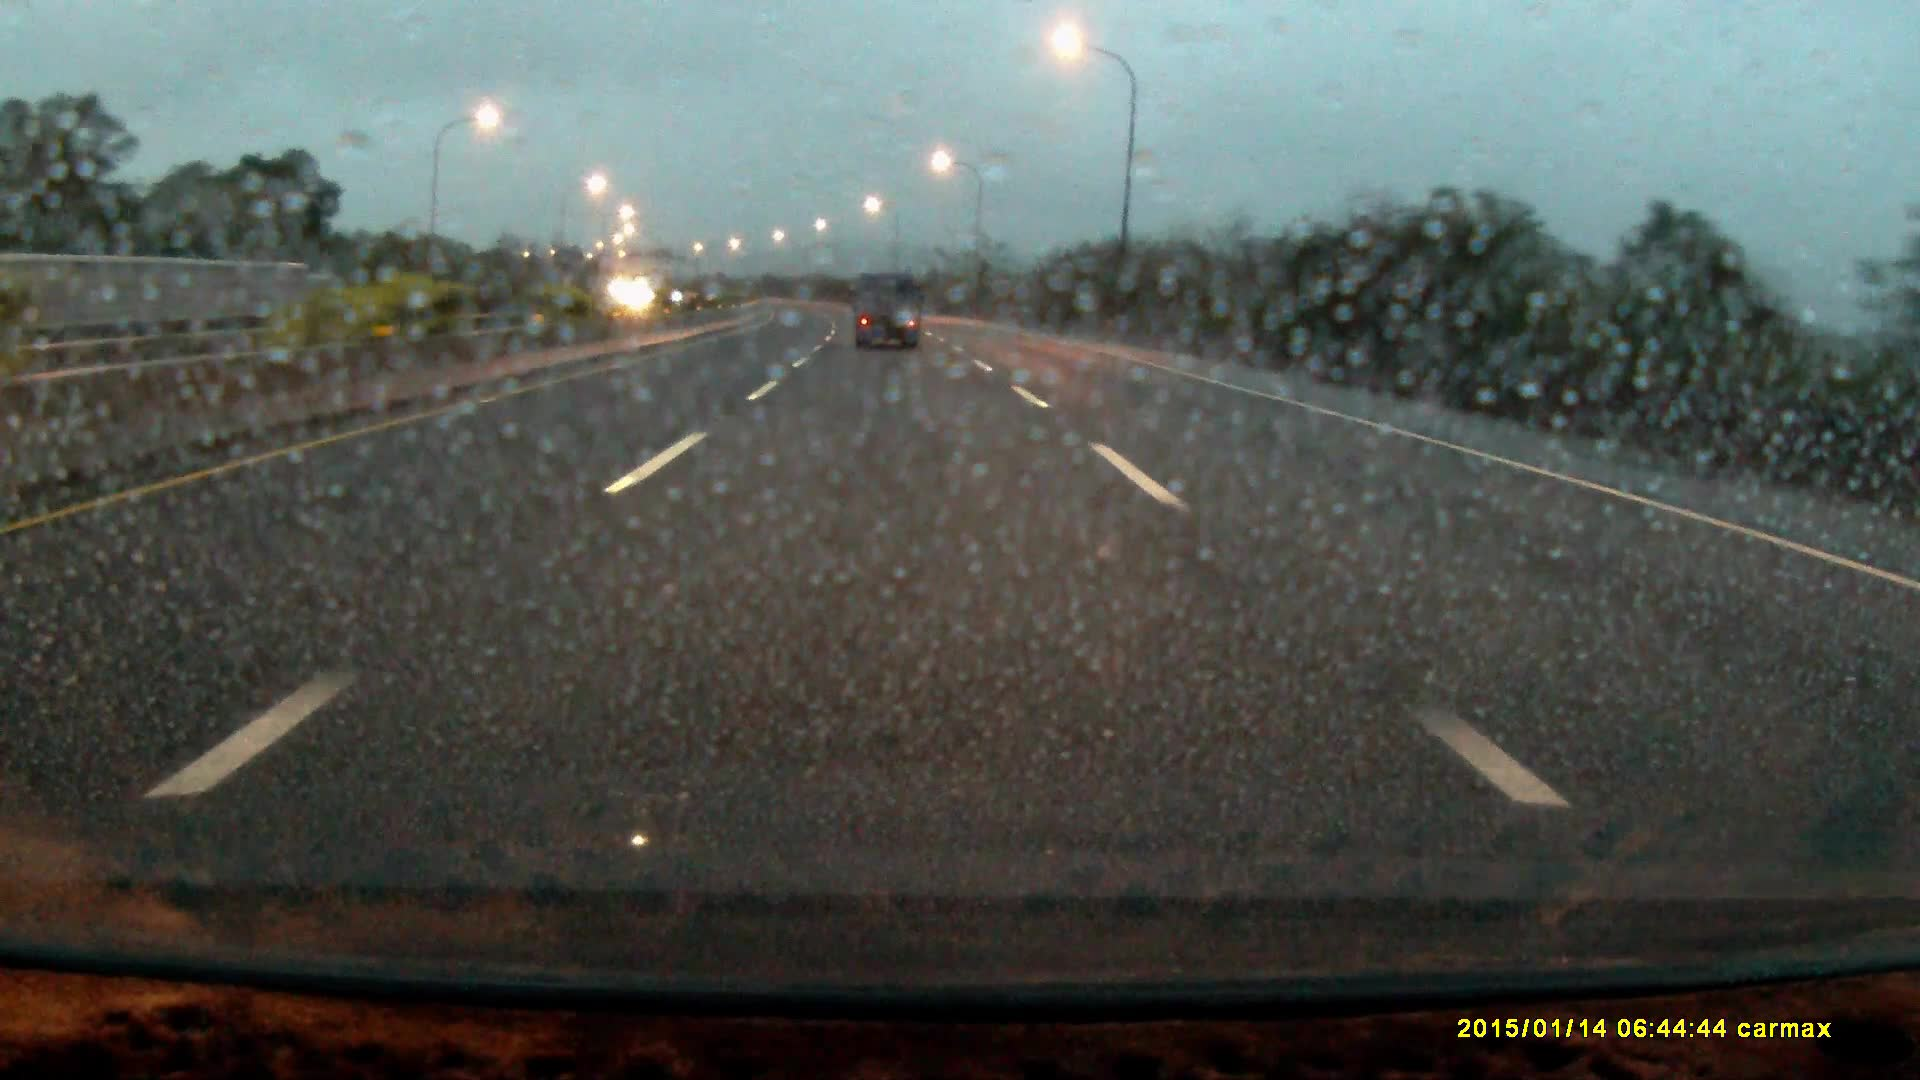vehicle: (853, 270, 922, 352)
